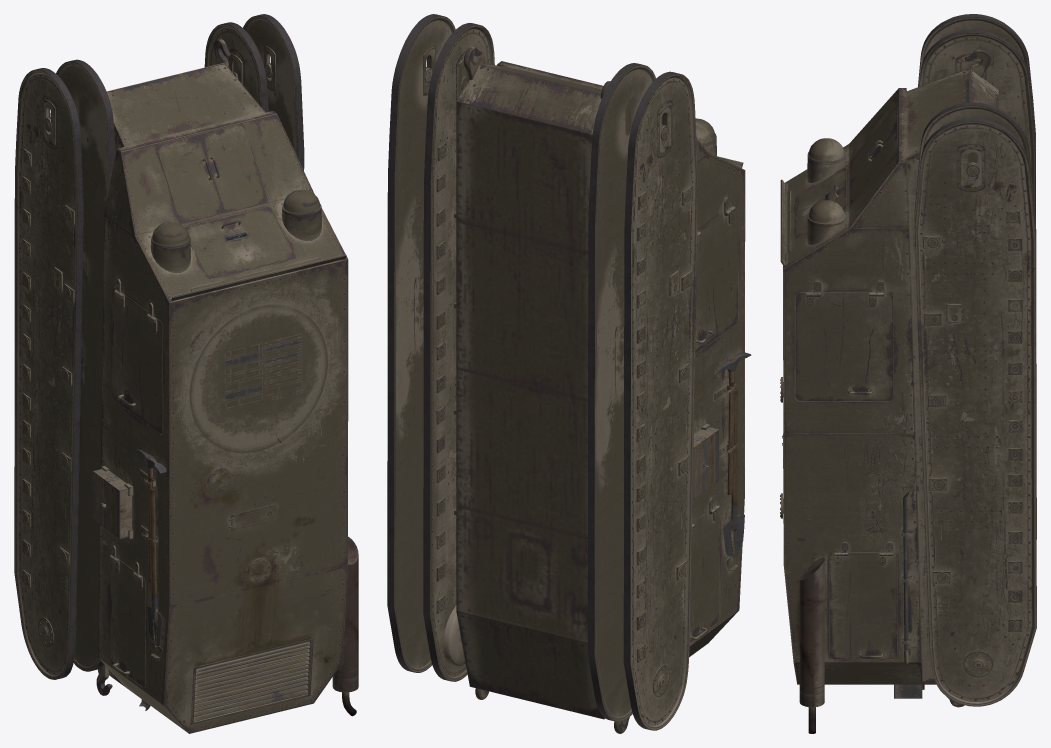
Rendered from Hull.glb.
3 views of the same model, side by side, from view 1: azimuth 30°, elevation 25°; view 2: azimuth 150°, elevation 25°; view 3: azimuth 270°, elevation 25° (orthographic). The views are drawn at different scales.
Visible parts, largest first — view 1: set_0_group_0; view 2: set_0_group_0; view 3: set_0_group_0.
Boxes of the visible parts, bbox=[...] form: set_0_group_0: bbox=[14, 14, 358, 733]; set_0_group_0: bbox=[387, 14, 751, 733]; set_0_group_0: bbox=[780, 14, 1036, 733].
Bounding box in the file's own units: 1.67 × 4.45 × 1.68.
1 material, 1 textured.
